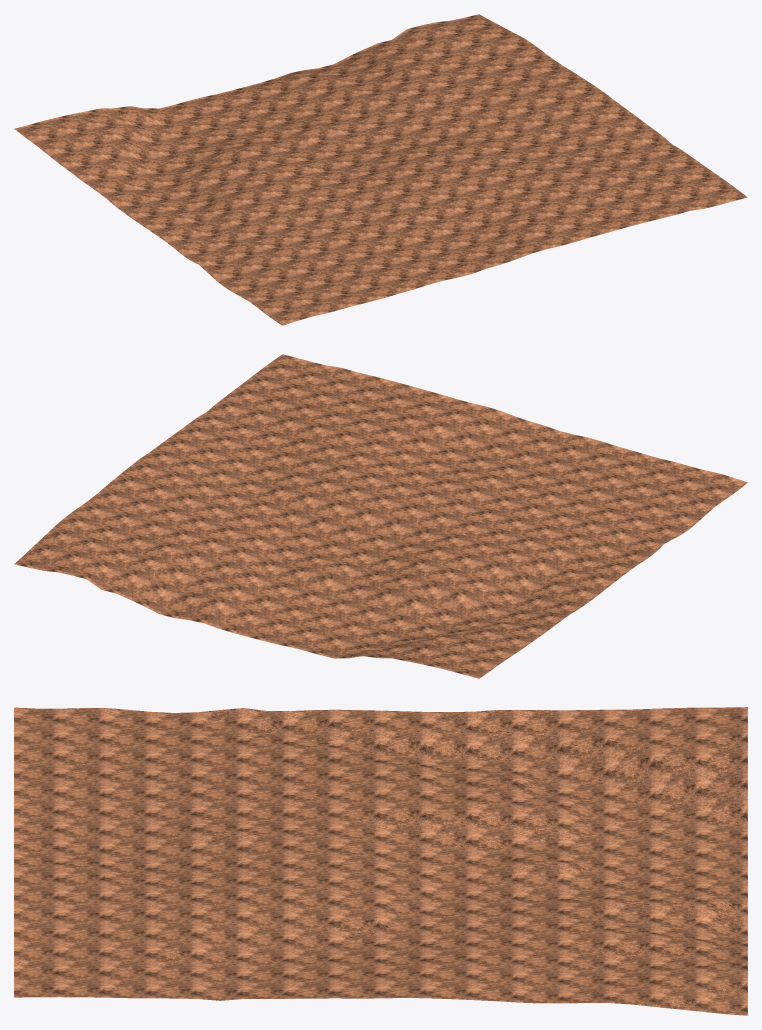
The model's file is terrain_01_15.dae.
3 views of the same model, one above another, from view 1: azimuth 30°, elevation 25°; view 2: azimuth 150°, elevation 25°; view 3: azimuth 270°, elevation 25° (orthographic). The views are drawn at different scales.
Visible parts, largest first — view 1: terrain_01_15-node; view 2: terrain_01_15-node; view 3: terrain_01_15-node.
Part boxes in pixels (left/top/right/bottom): terrain_01_15-node: left=14, top=14, right=747, bottom=325; terrain_01_15-node: left=14, top=354, right=747, bottom=678; terrain_01_15-node: left=14, top=707, right=747, bottom=1015.
Size of the model in its own units: 128 by 128 by 7.98.
Materials: 1 (1 with a texture image).
